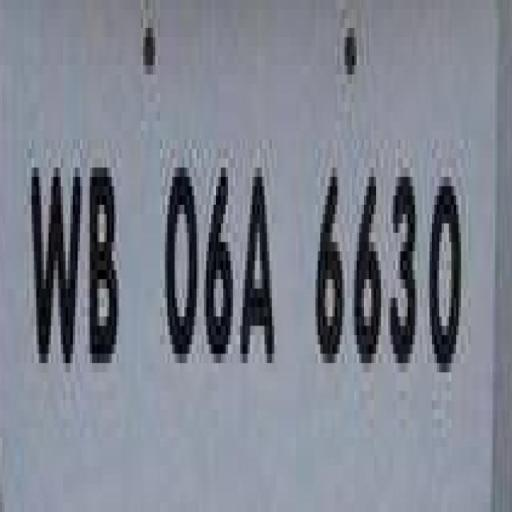number plate: (16, 28, 512, 502)
